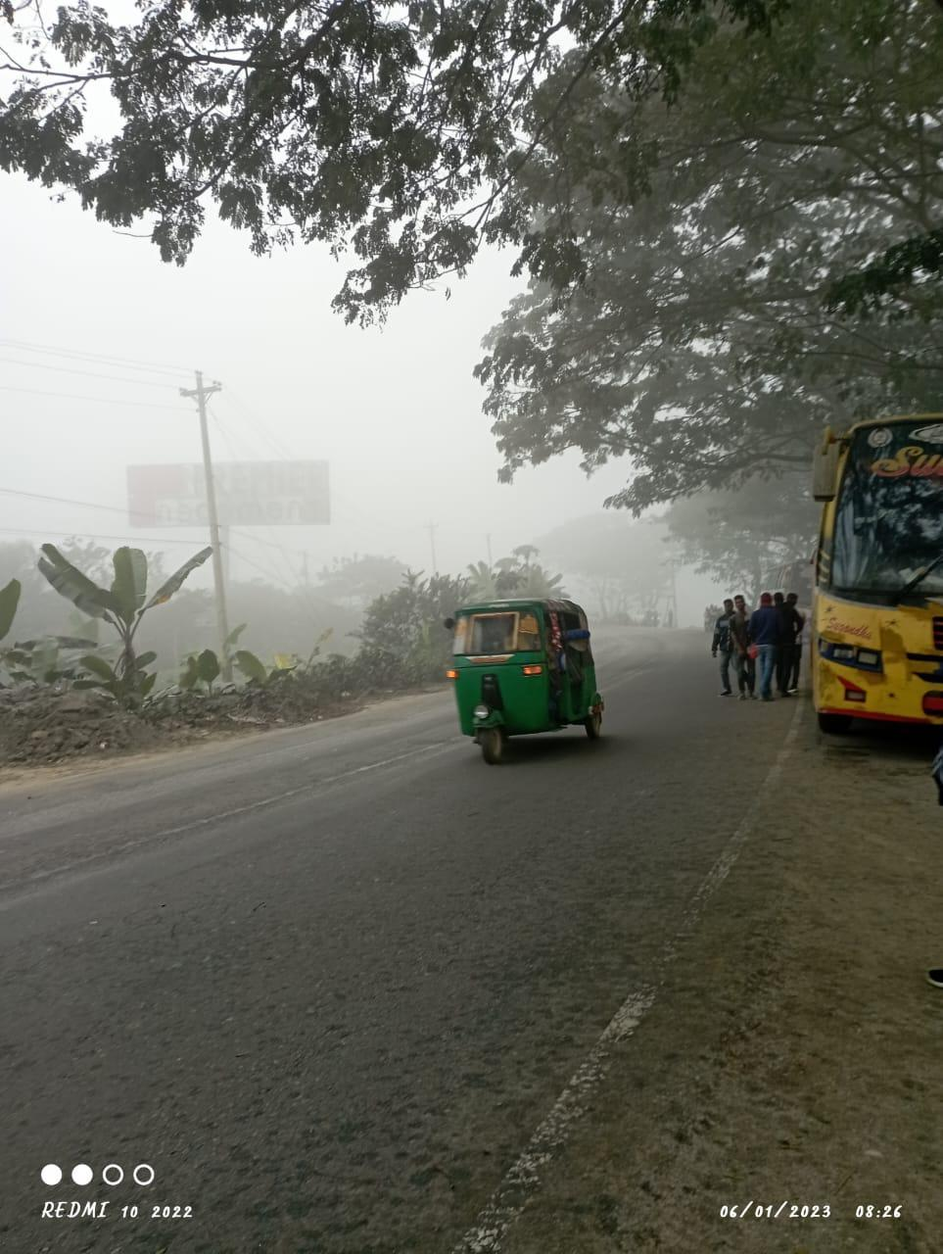Bus: (788, 408, 943, 757)
